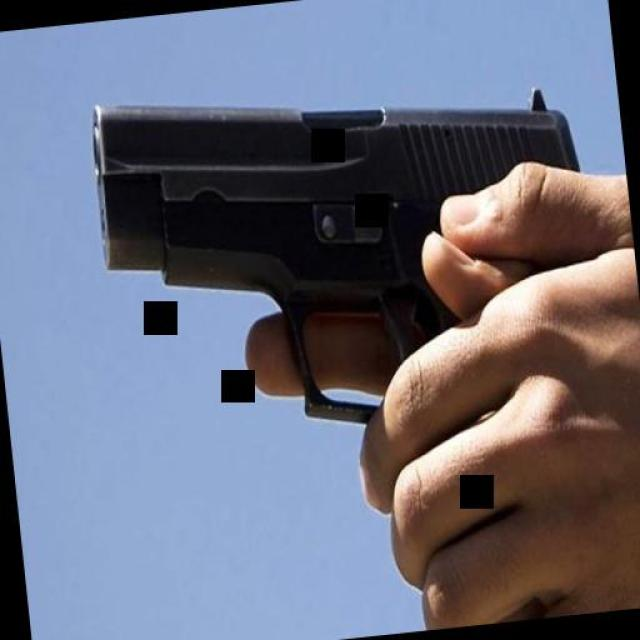gun: (86, 36, 629, 639)
